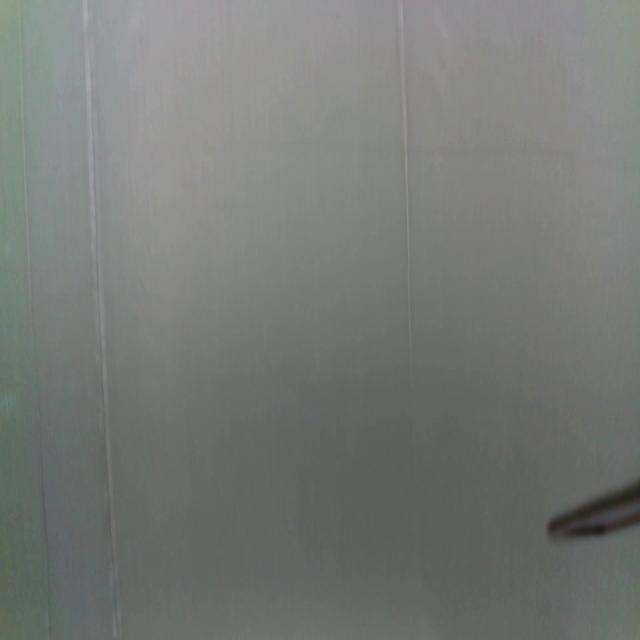color bleeding: (135, 129, 640, 178)
crease: (84, 0, 120, 640), (18, 0, 52, 639), (398, 0, 416, 380)
